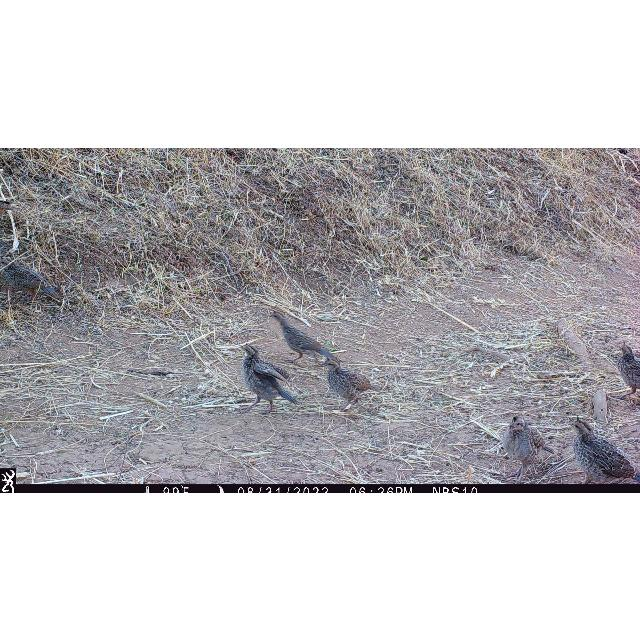animals: (242, 341, 302, 419), (570, 414, 638, 480), (270, 308, 338, 364), (324, 356, 382, 412), (1, 256, 58, 308), (505, 415, 555, 469), (611, 341, 640, 396)
